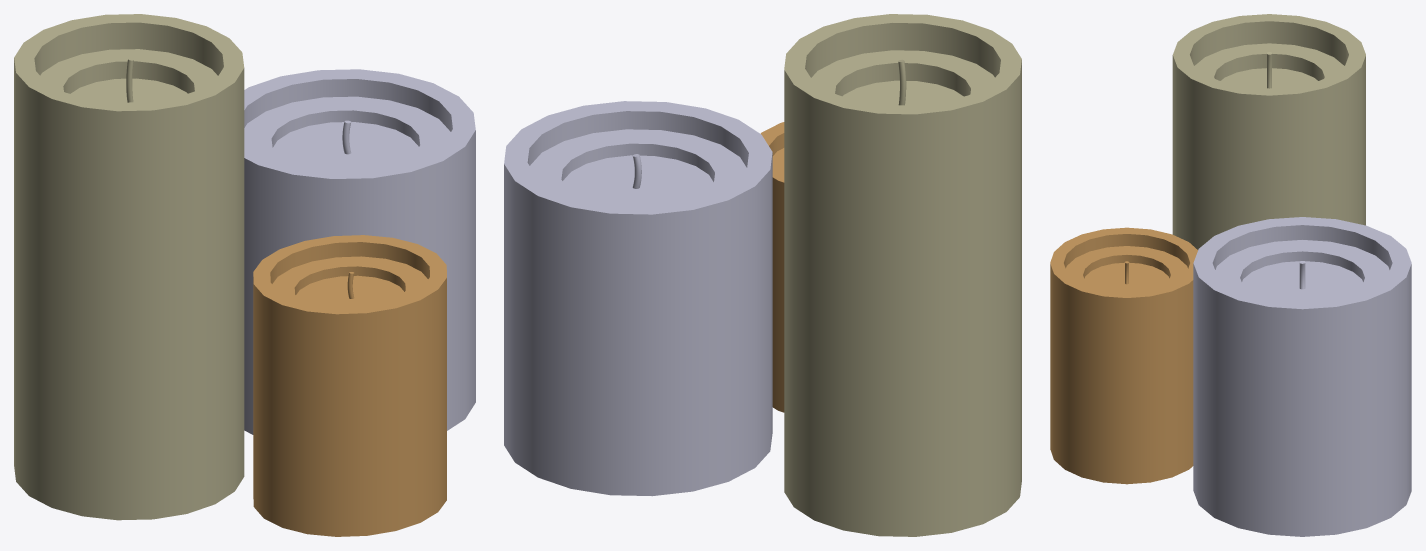
File: colored candles deskroom.fbx
3 views of the same model, side by side, from view 1: azimuth 30°, elevation 25°; view 2: azimuth 150°, elevation 25°; view 3: azimuth 270°, elevation 25° (orthographic). The views are drawn at different scales.
Visible parts, largest first — view 1: pCylinder3, pCylinder4, pCylinder5; view 2: pCylinder3, pCylinder5, pCylinder4; view 3: pCylinder5, pCylinder3, pCylinder4.
Boxes of the visible parts, <box> form: pCylinder3: <box>14,14,244,520</box>; pCylinder4: <box>253,235,446,536</box>; pCylinder5: <box>244,69,475,434</box>; pCylinder3: <box>784,14,1021,536</box>; pCylinder5: <box>504,101,772,496</box>; pCylinder4: <box>760,122,784,412</box>; pCylinder5: <box>1193,217,1411,536</box>; pCylinder3: <box>1172,14,1365,249</box>; pCylinder4: <box>1050,227,1197,484</box>.
Size of the model in its own units: 0.151 by 0.1322 by 0.1258.
